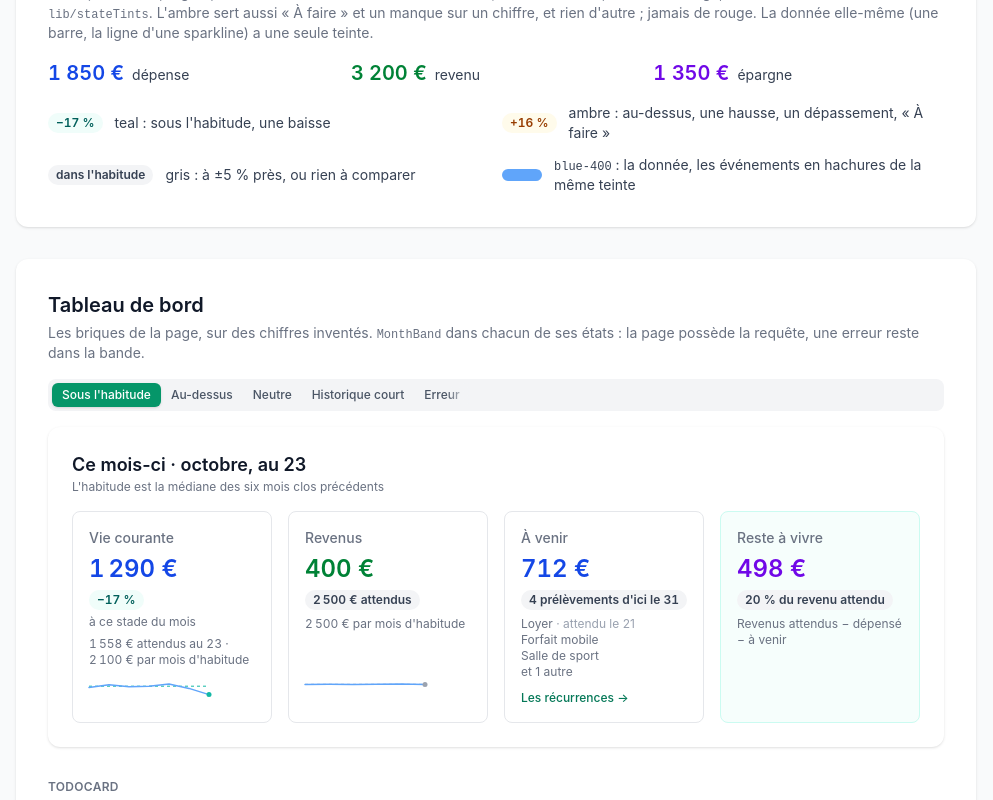
Scenario: DesignReferencePage — the dashboard › walks the month band through its states
(page scrolled)
Click the radio button labelled "Au-dessus".
click(202, 395)  # box [161,383,243,407]
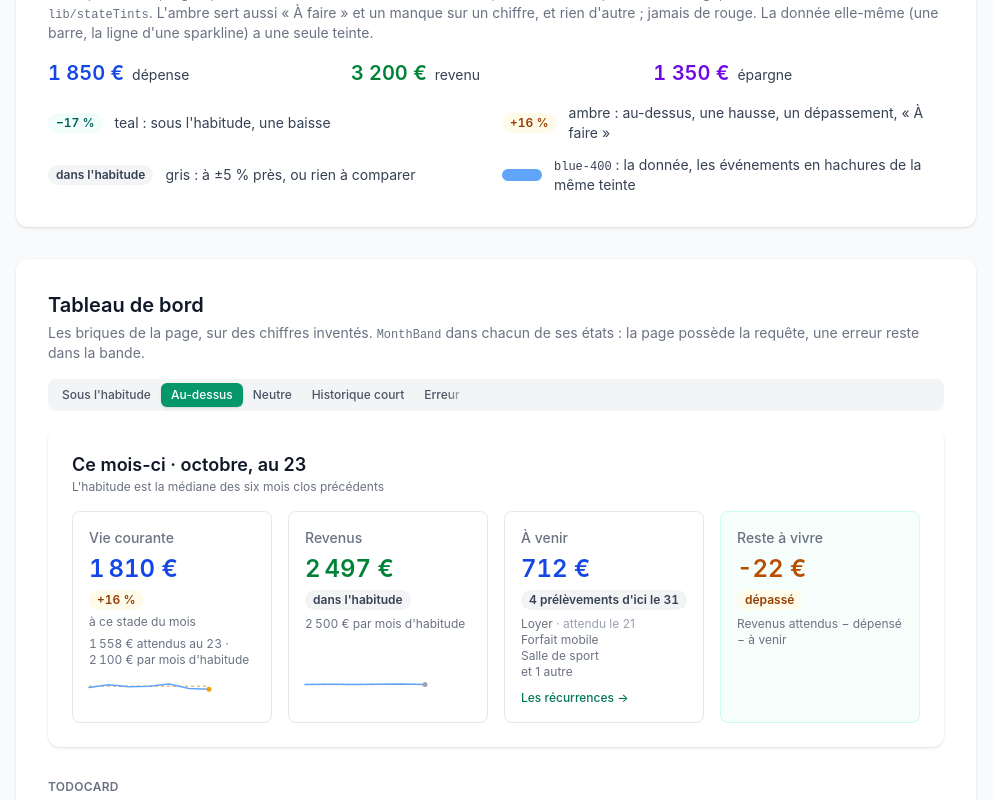
Result: the element with test id "month-tile-remaining" shows "dépassé" at [745,592,794,607]
Click the radio button labelled "Neutre".
click(272, 395)  # box [243,383,302,407]
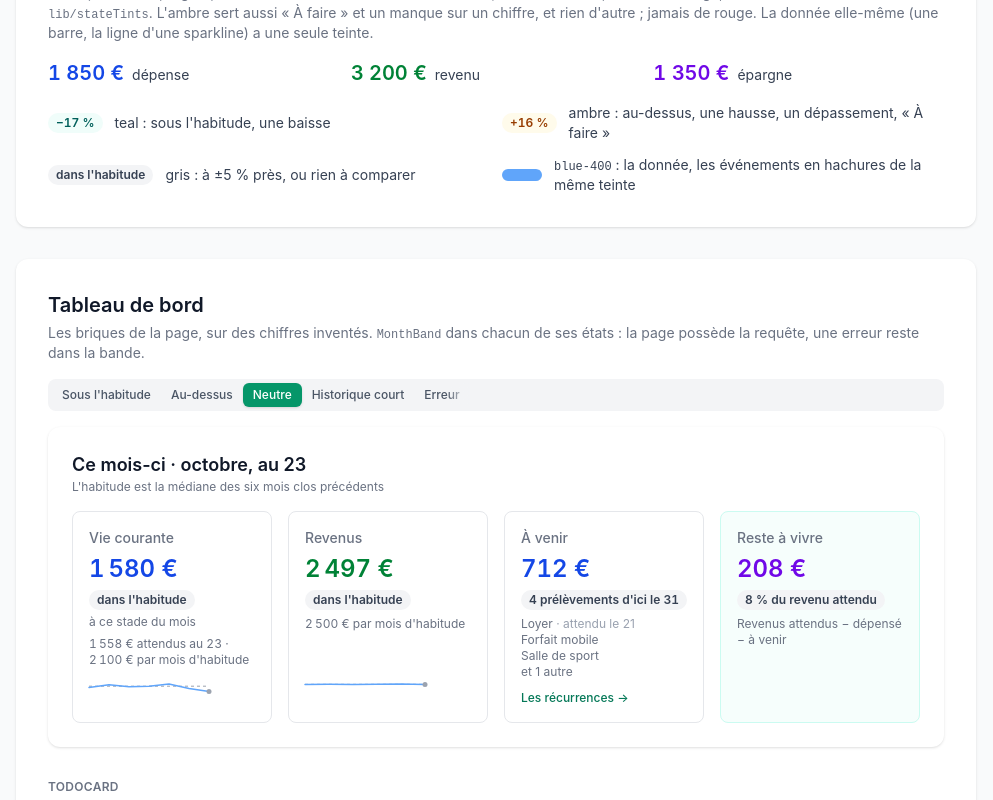
Click the radio button labelled "Historique court".
click(358, 395)  # box [302,383,414,407]
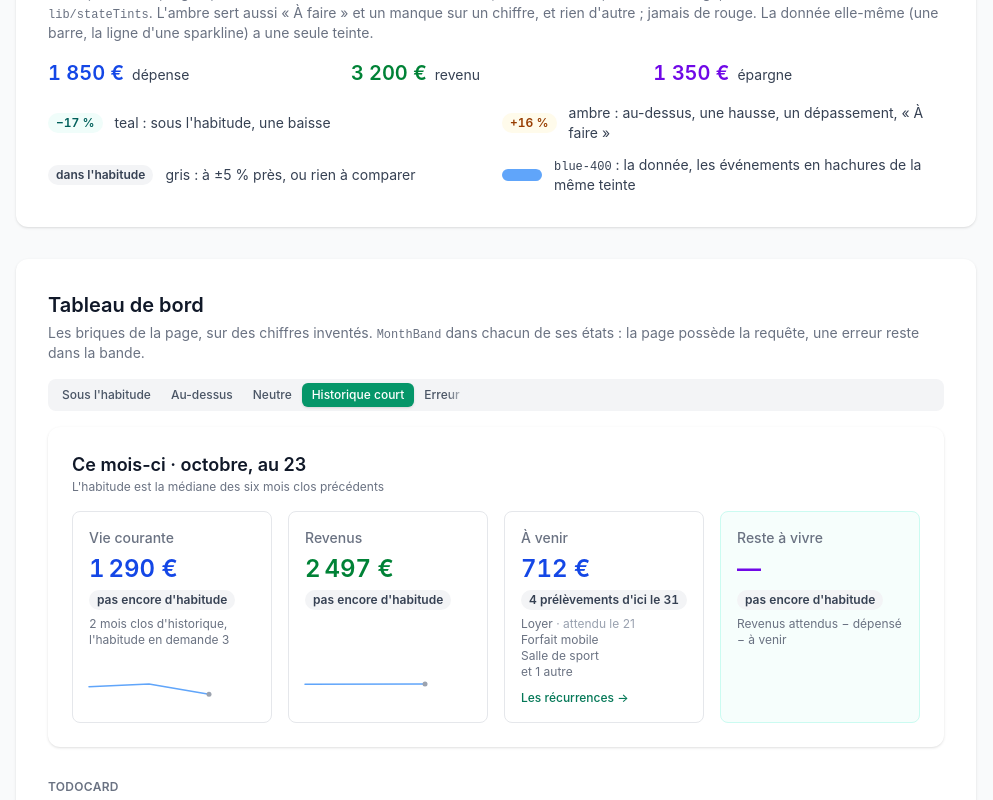
Result: the text with test id "month-badge-spent" reads "pas encore d'habitude" at [97,592,227,607]
Click the radio button labelled "Erreur".
click(442, 395)  # box [414,383,470,407]
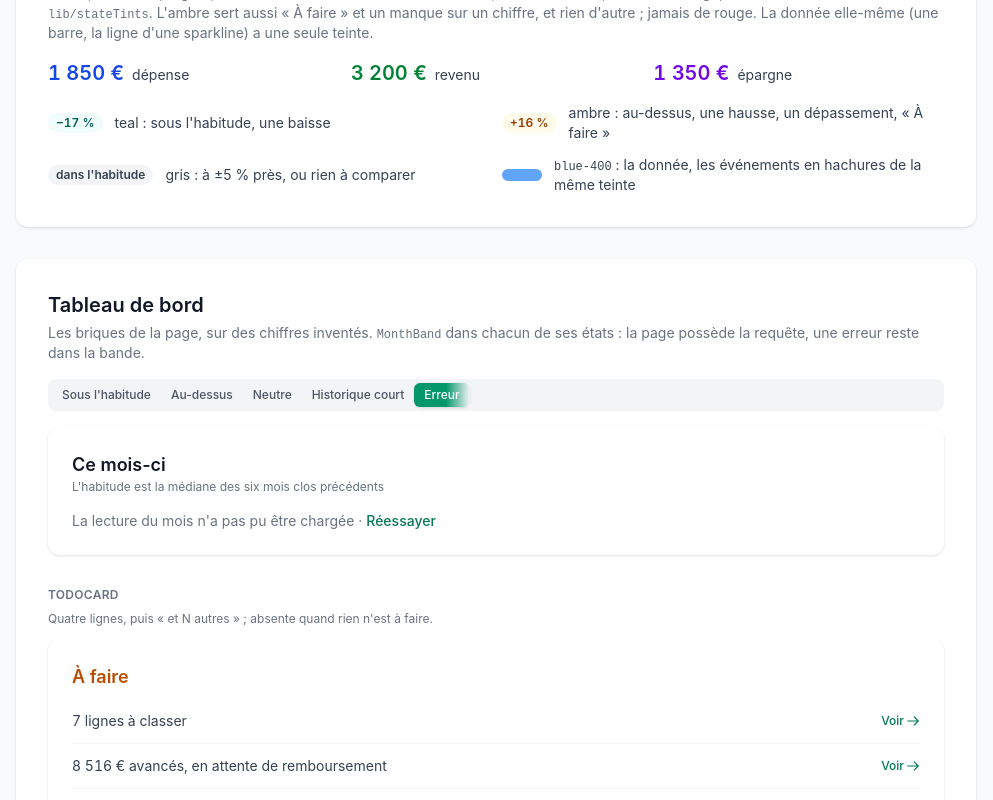
Result: the message "La lecture du mois n'a pas pu être chargée · Réessayer" is shown at [72,511,436,531]
